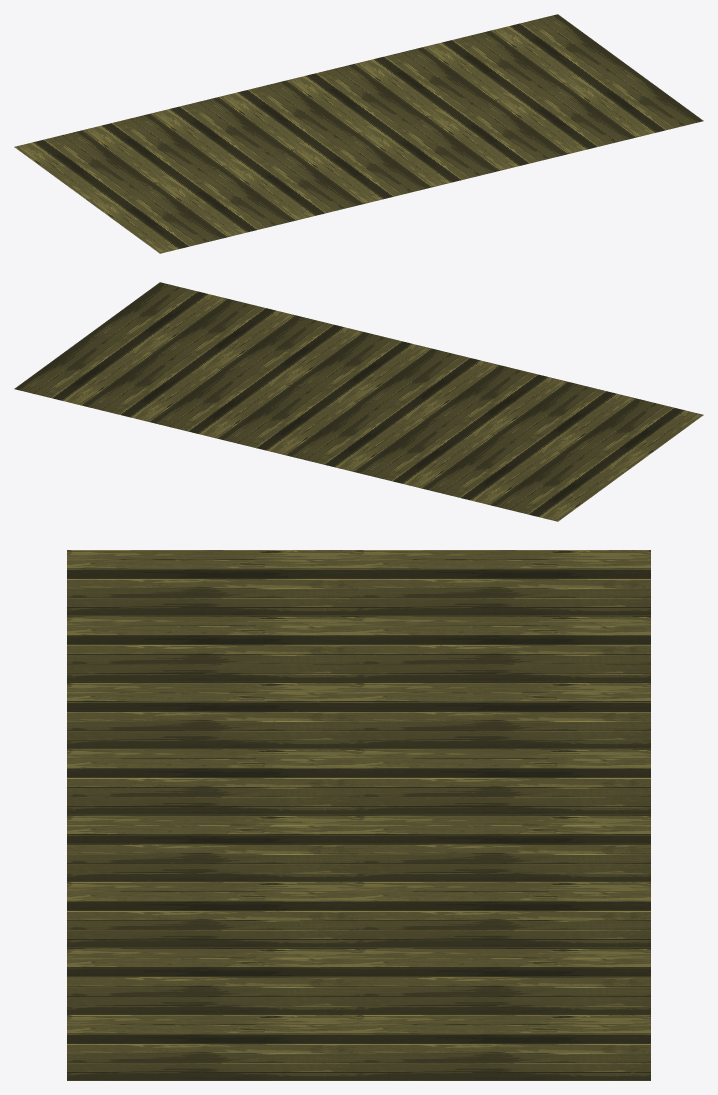
3 views of the same model, one above another, from view 1: azimuth 30°, elevation 25°; view 2: azimuth 150°, elevation 25°; view 3: azimuth 270°, elevation 25° (orthographic). The views are drawn at different scales.
Visible parts, largest first — view 1: Object03; view 2: Object03; view 3: Object03.
Boxes of the visible parts, x1,y1,x2,y2 form: Object03: (14, 14, 703, 253); Object03: (14, 282, 703, 521); Object03: (67, 550, 650, 1080).
Size of the model in its own units: 2299 by 0.000198 by 1069.
Materials: 1 (1 with a texture image).
